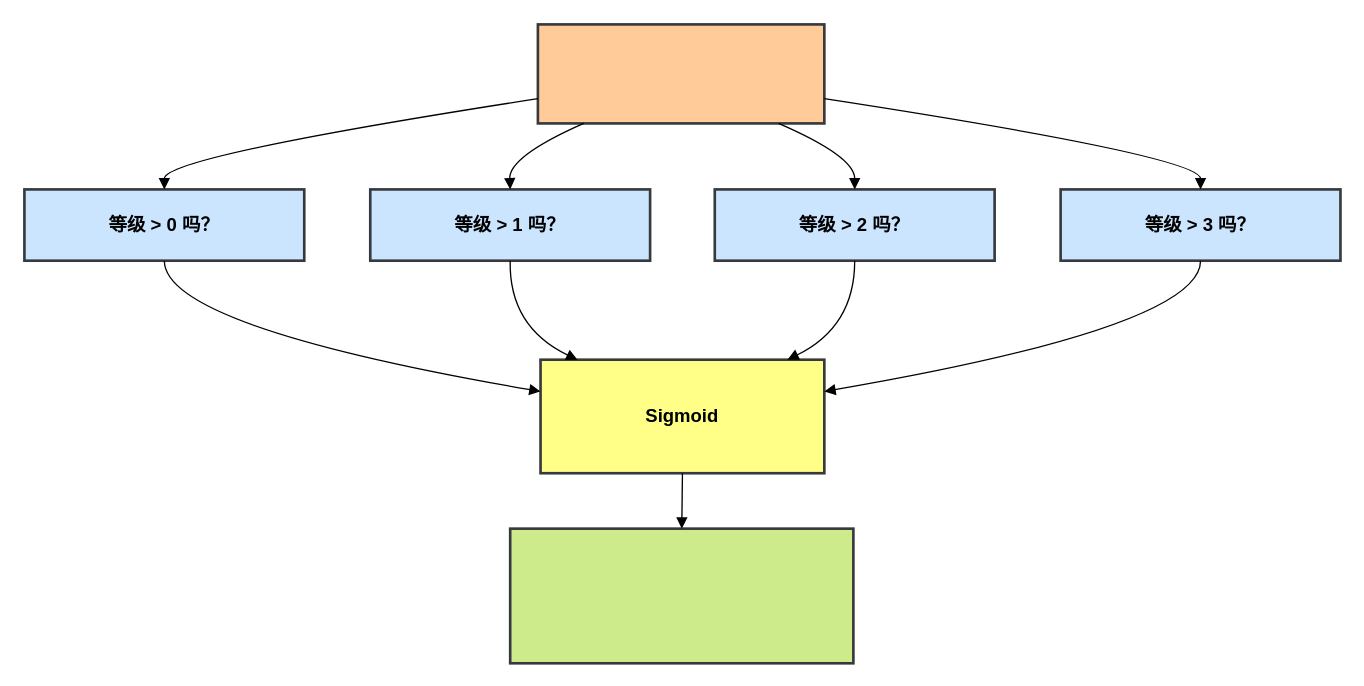
This 1364x686 diagram has some shape labels left out. Here are the shapes that lost their labels. From the top down, the centre of each, then its label:
At [680,73]: "分类器".
At [681,595]: "一组独立的预测概率 如: [0.99, 0.85, 0.10, 0.02]".
